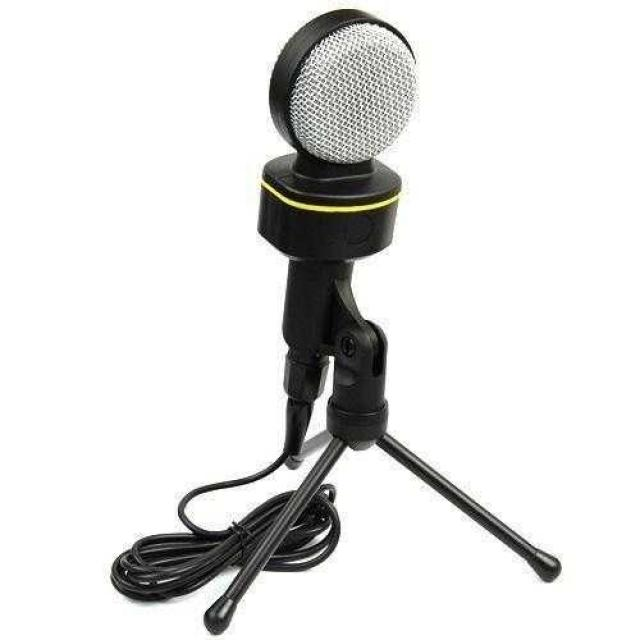microphone: (246, 7, 424, 388)
